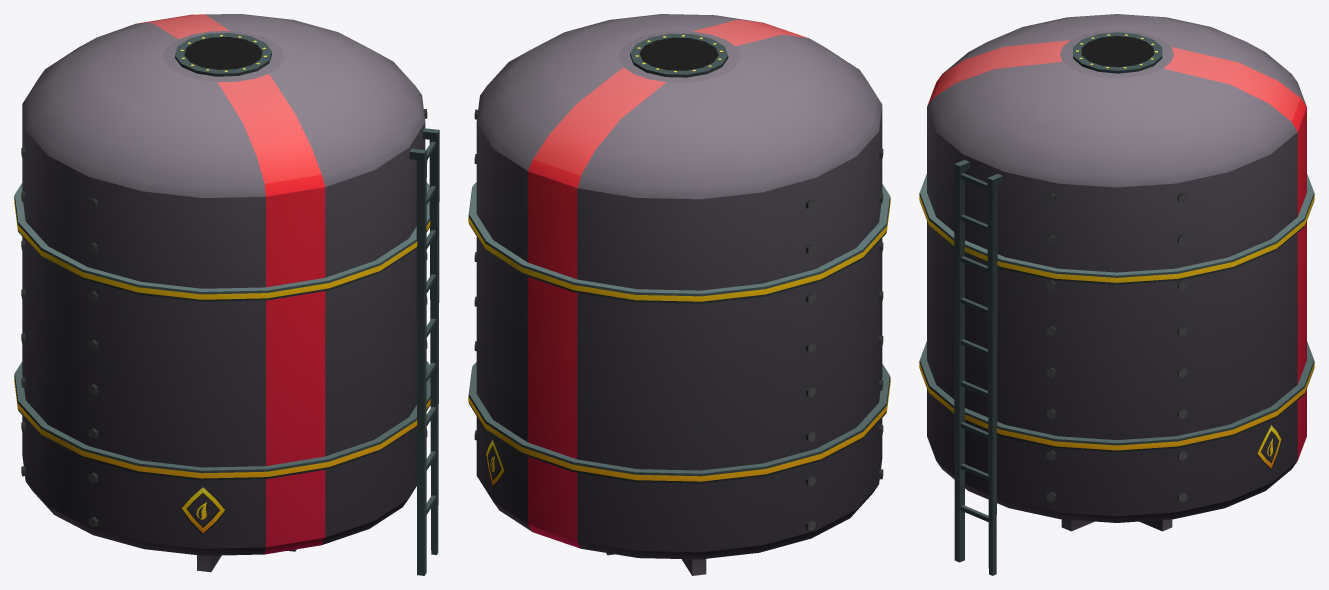
File: Tank_4A.fbx
3 renders of one model, left to right at view 1: azimuth 30°, elevation 25°; view 2: azimuth 150°, elevation 25°; view 3: azimuth 270°, elevation 25°, orthographic. The views are drawn at different scales.
Parts seen in each view (by area): view 1: Tank_4A; view 2: Tank_4A; view 3: Tank_4A.
Part boxes in pixels (x1,y1,x2,y2): Tank_4A: [14, 14, 439, 575]; Tank_4A: [468, 14, 890, 575]; Tank_4A: [919, 14, 1314, 575].
Bounding box in the file's own units: 863 × 1101 × 863.
